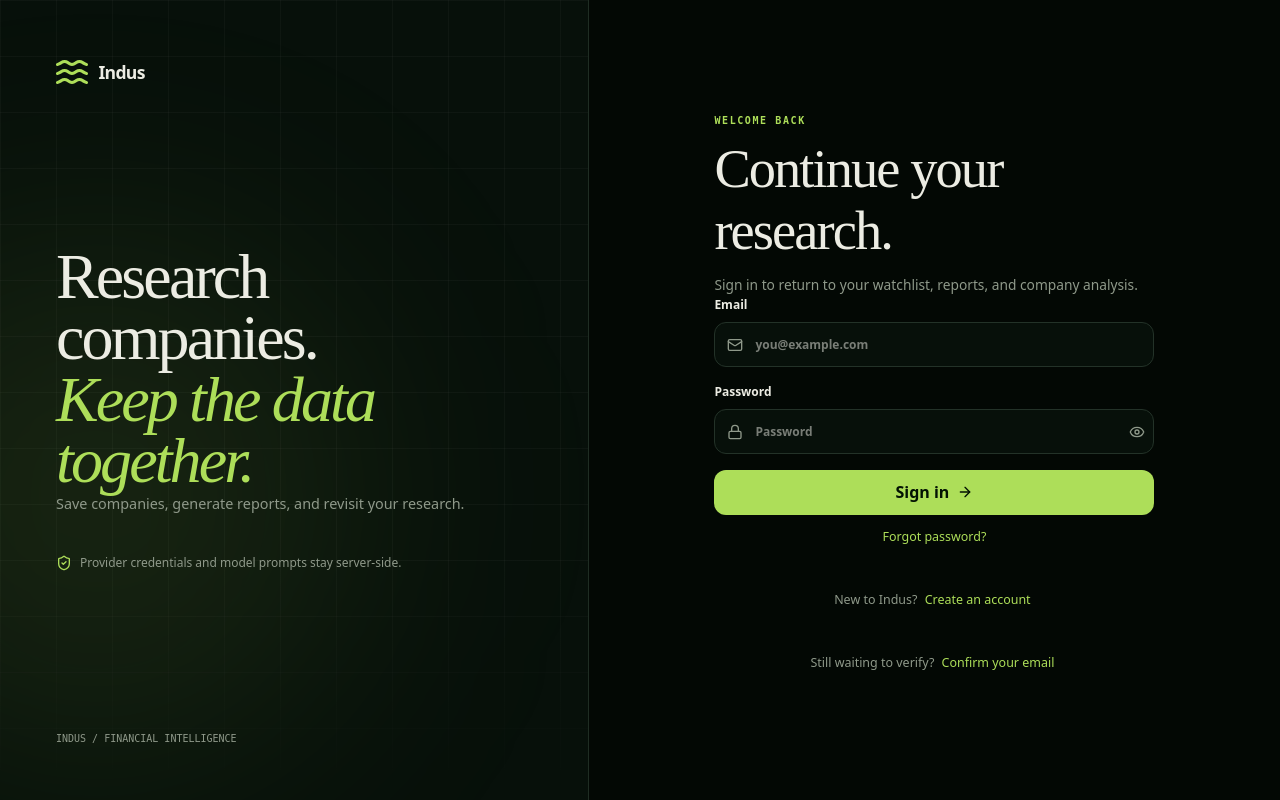
Test: application routing › rejects a duplicate confirmation submit while the first request is running
Step 1. Click the button "Confirm your email" → (998, 663), box [938,641,1058,685]
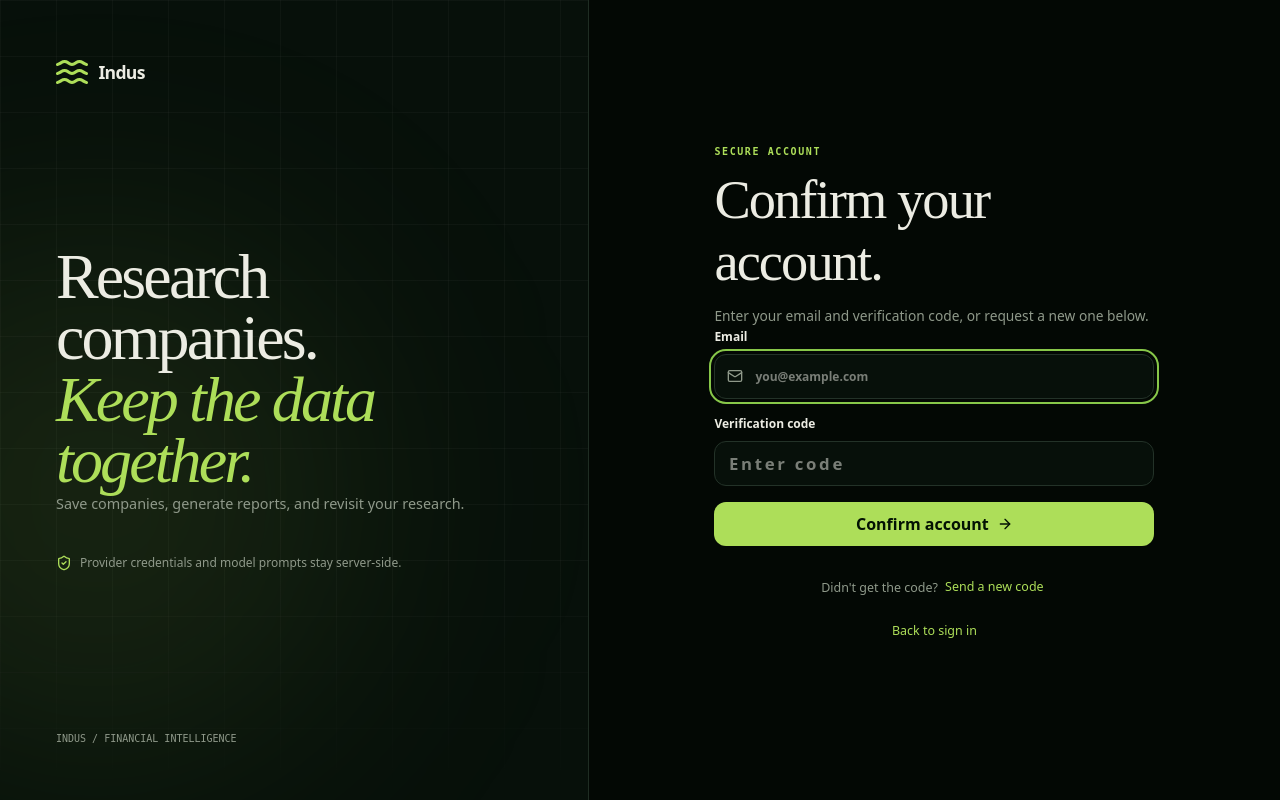
Step 2. Type "user@example.test" into the field labelled "Email" → (934, 376), box [714,354,1154,399]
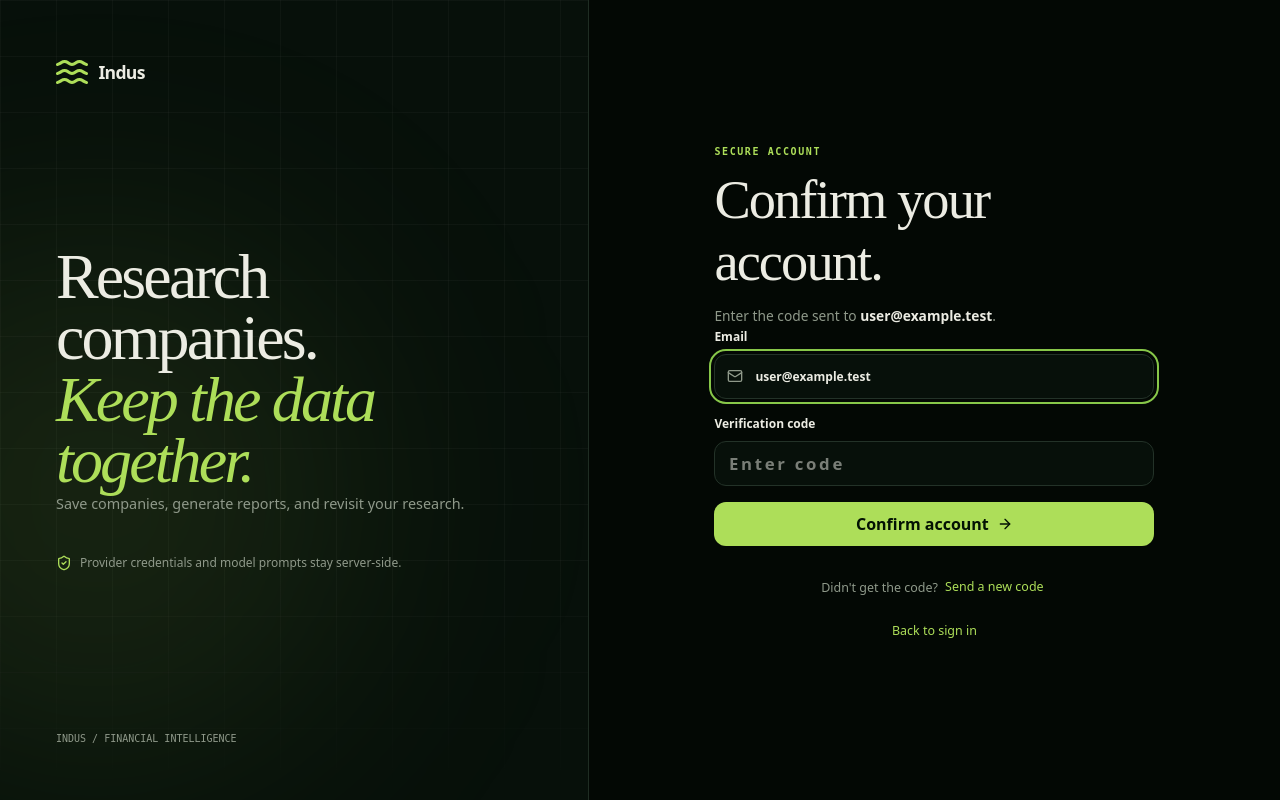
Step 3. Type "123456" into the field labelled "Verification code" → (934, 463), box [714,441,1154,486]
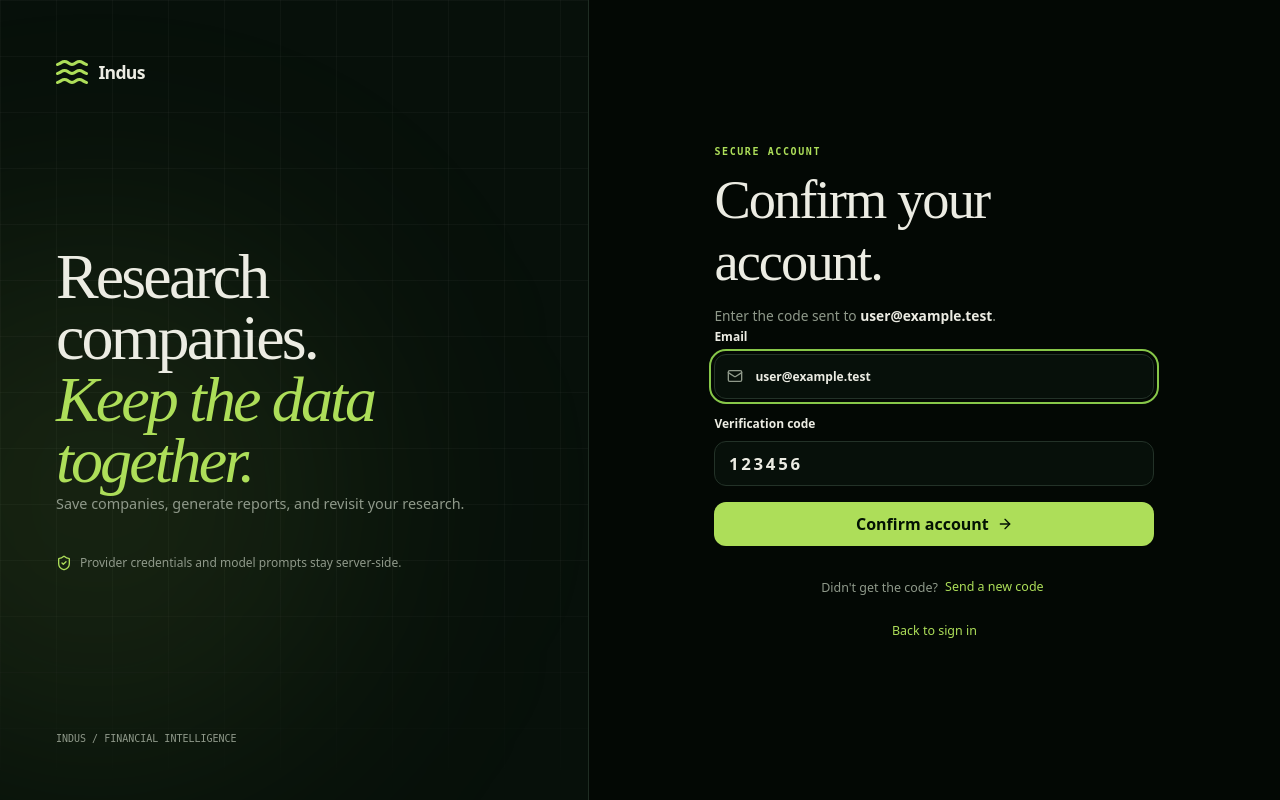
Step 4. Submit the form "Confirm account", box [714,328,1154,546]
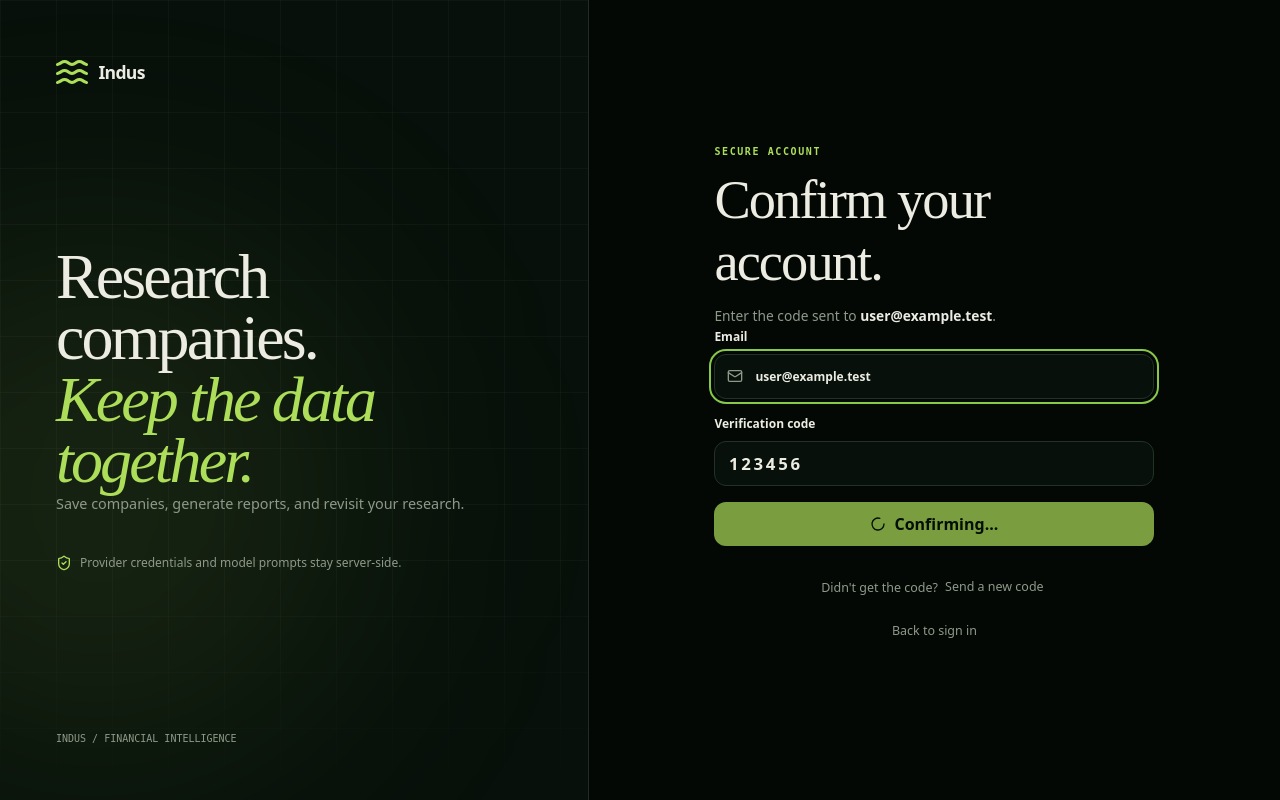
Step 5. Submit the form named "Confirm account", box [714,328,1154,546]
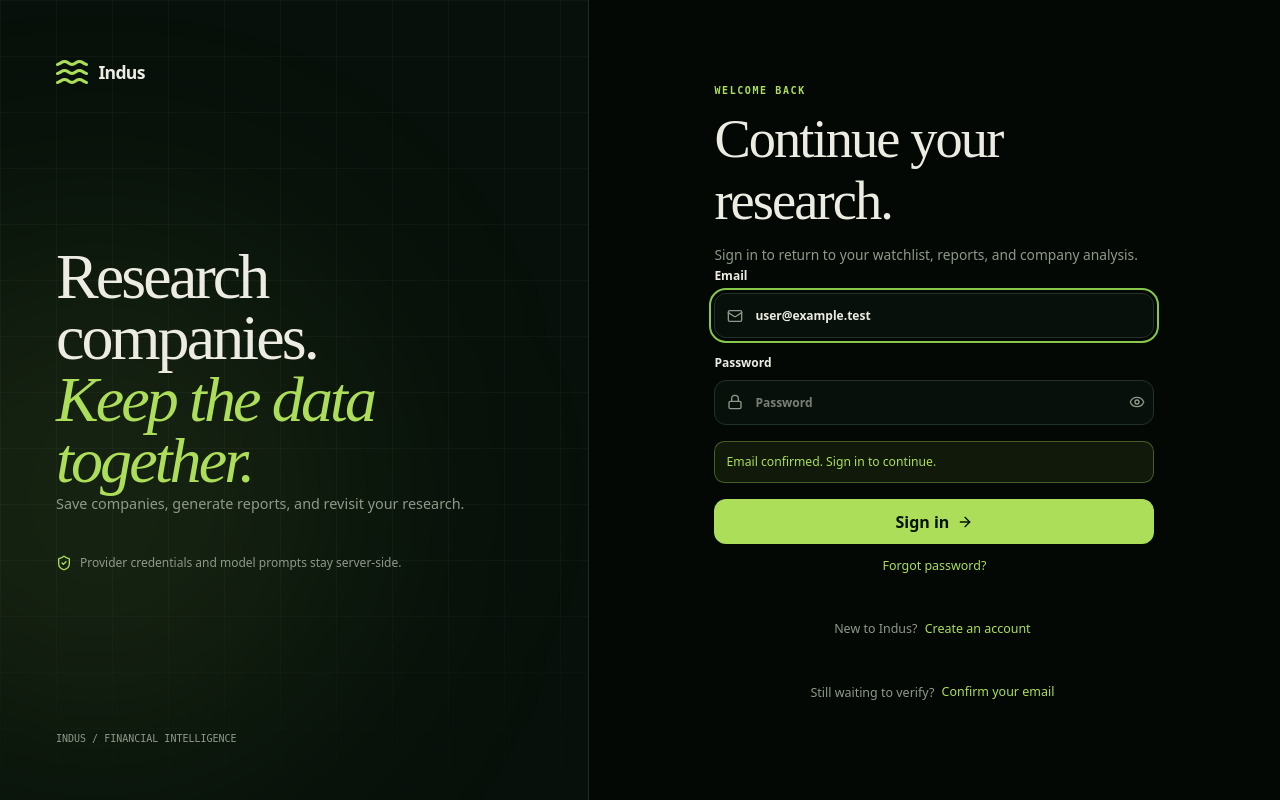
Result: the text "Email confirmed. Sign in to continue." is shown at [714,441,1154,483]
